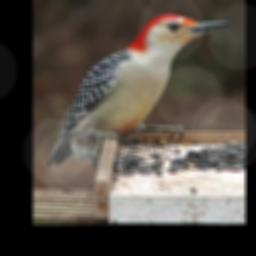Woodpecker: (44, 13, 232, 170)
